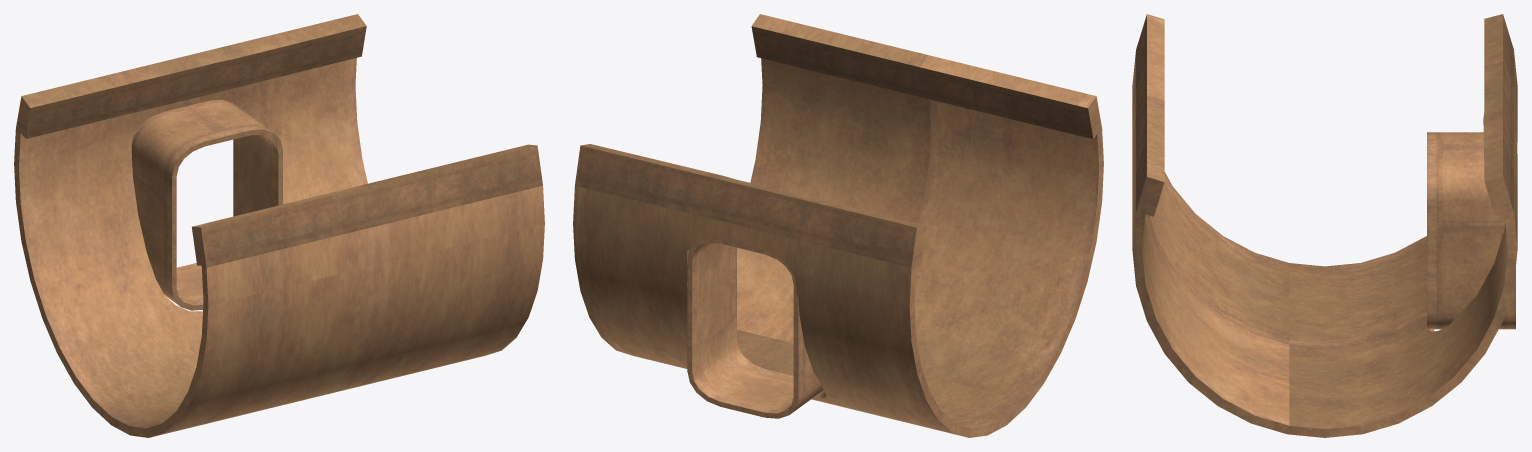
Rendered from Small_Wall_Door_A.fbx.
3 views of the same model, side by side, from view 1: azimuth 30°, elevation 25°; view 2: azimuth 150°, elevation 25°; view 3: azimuth 270°, elevation 25° (orthographic).
Parts seen in each view (by area): view 1: Small_Wall_Door_A; view 2: Small_Wall_Door_A; view 3: Small_Wall_Door_A.
Boxes of the visible parts, left/top/right/bottom form: Small_Wall_Door_A: left=14, top=14, right=544, bottom=437; Small_Wall_Door_A: left=573, top=14, right=1103, bottom=437; Small_Wall_Door_A: left=1132, top=14, right=1517, bottom=437.
Bounding box in the file's own units: 4.01 × 2.99 × 4.
